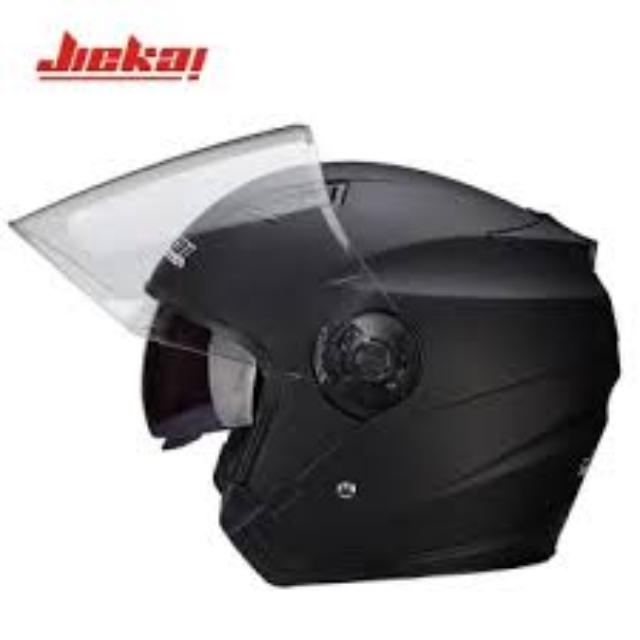motorcycle-helmets: (14, 125, 617, 583)
